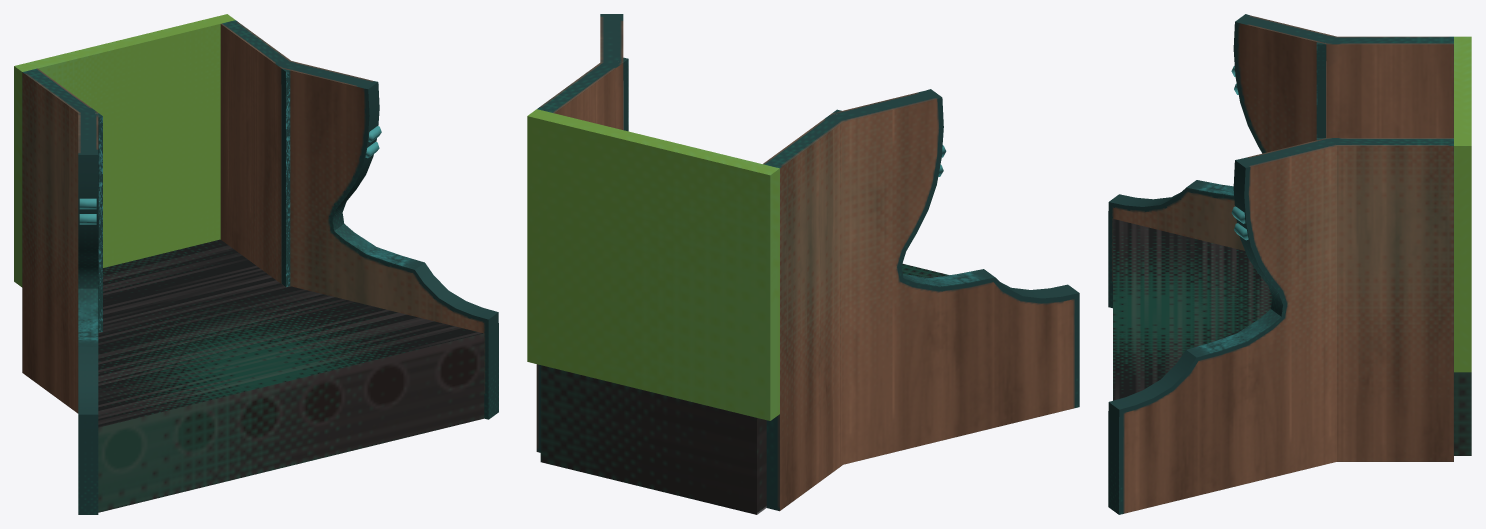
File: laohuji_1.fbx
3 views of the same model, side by side, from view 1: azimuth 30°, elevation 25°; view 2: azimuth 150°, elevation 25°; view 3: azimuth 270°, elevation 25° (orthographic). The views are drawn at different scales.
Parts seen in each view (by area): view 1: polySurface42; view 2: polySurface42; view 3: polySurface42.
Part boxes in pixels (x1,y1,x2,y2): polySurface42: [14, 14, 498, 514]; polySurface42: [527, 14, 1079, 514]; polySurface42: [1108, 14, 1471, 514].
Bounding box in the file's own units: 2 × 1.37 × 1.42.
Materials: 1 (1 with a texture image).
